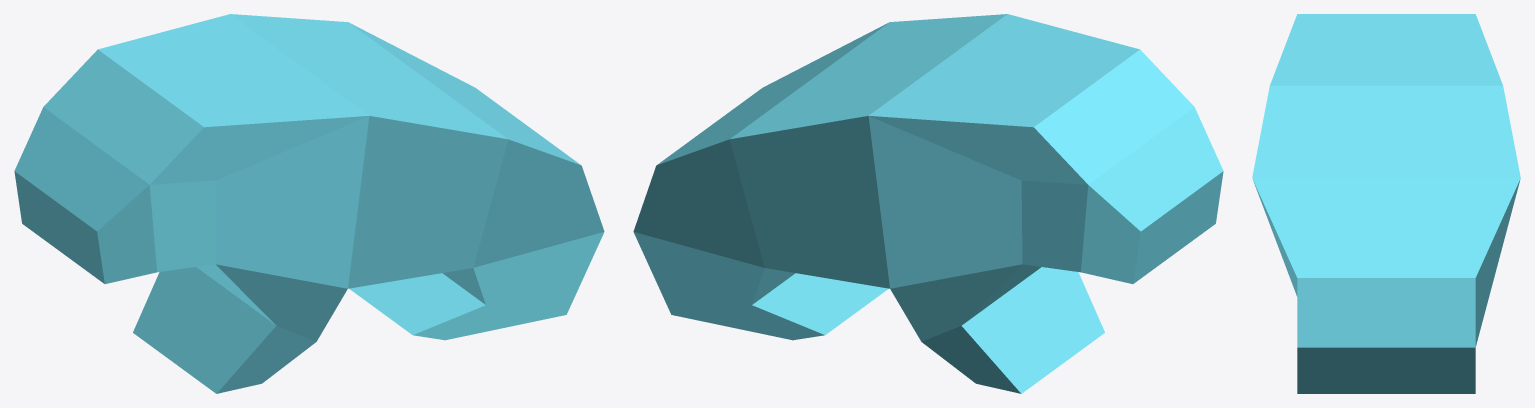
The model's file is frog_block.fbx.
3 views of the same model, side by side, from view 1: azimuth 30°, elevation 25°; view 2: azimuth 150°, elevation 25°; view 3: azimuth 270°, elevation 25° (orthographic). The views are drawn at different scales.
Parts seen in each view (by area): view 1: frog; view 2: frog; view 3: frog.
Boxes of the visible parts, x1=… form: frog: x1=14, y1=14, x2=604, y2=393; frog: x1=633, y1=14, x2=1223, y2=393; frog: x1=1252, y1=14, x2=1520, y2=393.
Bounding box in the file's own units: 35.51 × 19.28 × 19.87.
